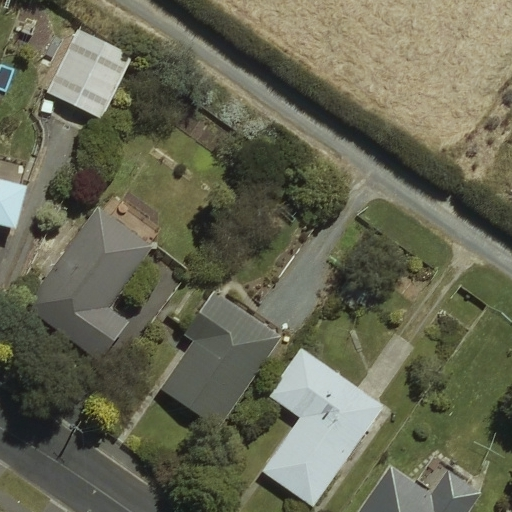DT: (61, 411, 90, 442)
